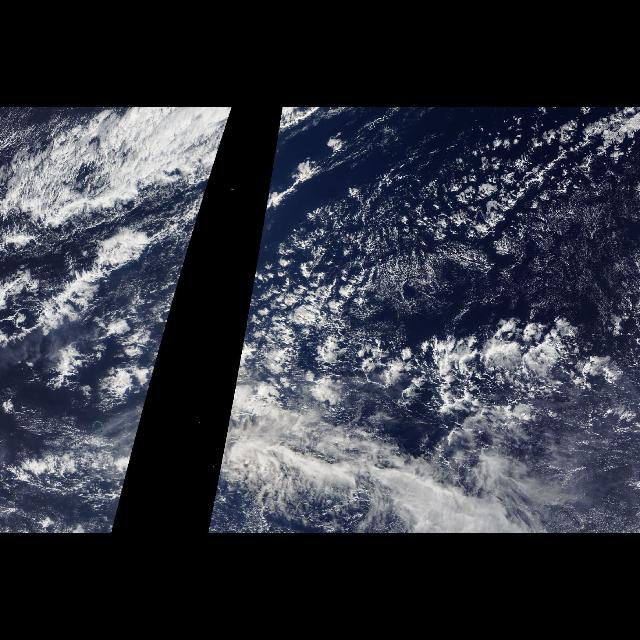Gravel: (258, 326, 640, 482)
Sugar: (396, 114, 640, 328)
